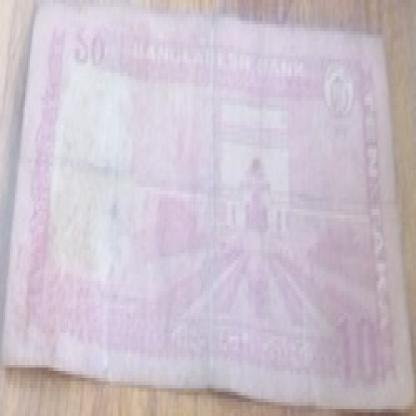Ten Taka: (333, 315, 381, 385), (68, 24, 105, 76)
